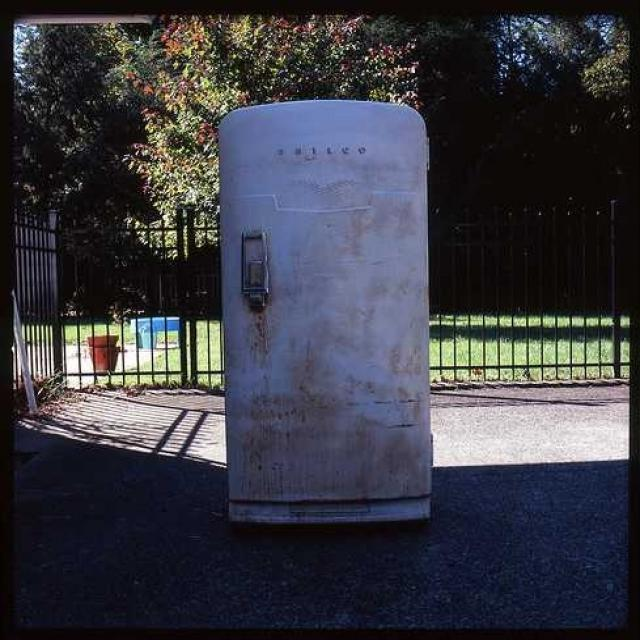refrigerator: (219, 100, 438, 519)
